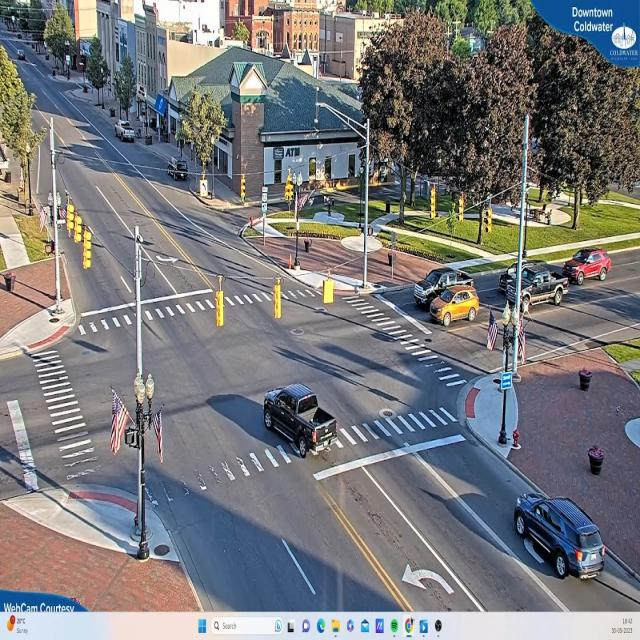car: (510, 493, 608, 584), (254, 381, 340, 461), (507, 260, 569, 312), (431, 283, 484, 329), (413, 264, 452, 308), (566, 248, 612, 284), (116, 123, 136, 143)
